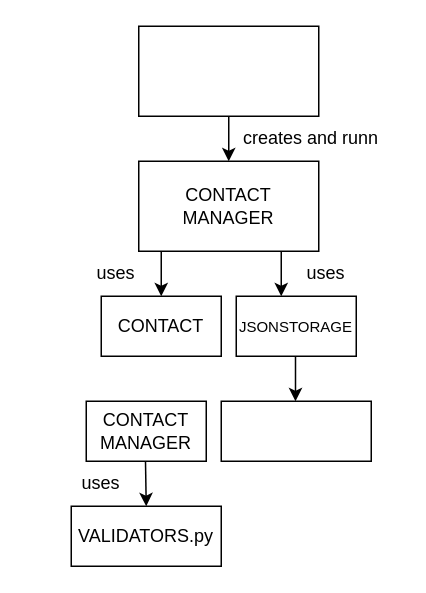
Some shapes in this 426 by 593 pixel diagram are drawn without their labels. Each missing label, with the box of its shape:
CONTACTS.json: (220, 400, 371, 461)
MAIN.py: (137, 25, 319, 116)
